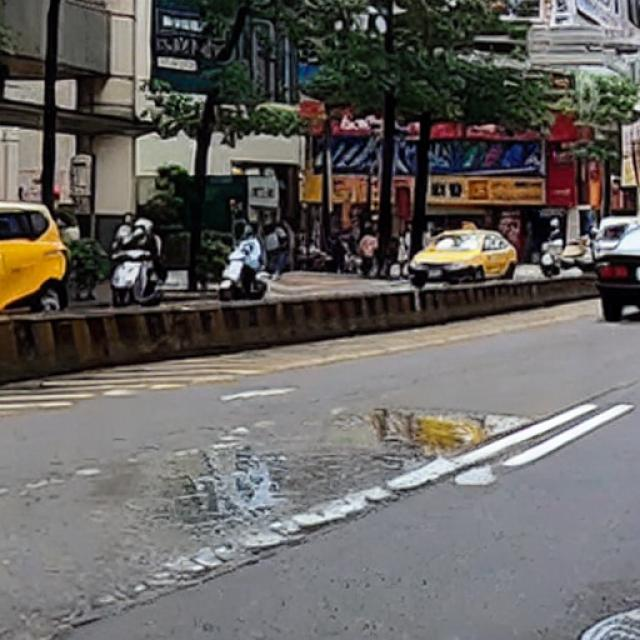puddle: (156, 408, 519, 522)
